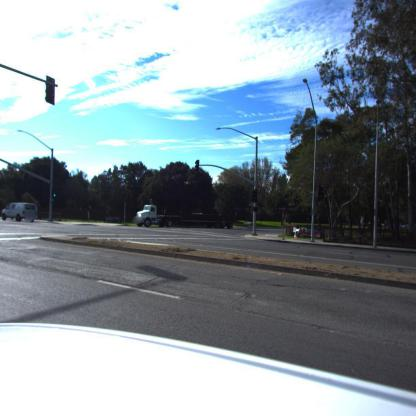car: (1, 201, 38, 222)
truck: (134, 202, 236, 227)
